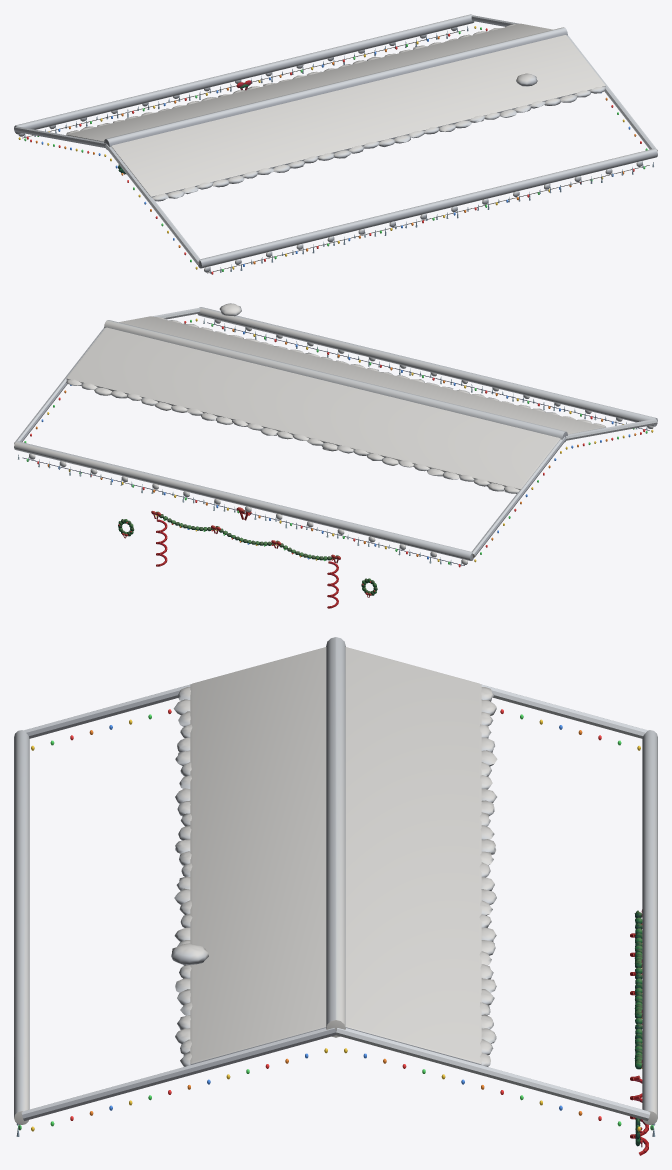
The model's file is XmasHall.fbx.
3 views of the same model, one above another, from view 1: azimuth 30°, elevation 25°; view 2: azimuth 150°, elevation 25°; view 3: azimuth 270°, elevation 25° (orthographic). The views are drawn at different scales.
Parts seen in each view (by area): view 1: SM_Xmas_Hall_Snow, SM_Xmas_Hall_Decor, SM_Xmas_Hall_Lights; view 2: SM_Xmas_Hall_Snow, SM_Xmas_Hall_Decor, SM_Xmas_Hall_Lights; view 3: SM_Xmas_Hall_Snow, SM_Xmas_Hall_Decor, SM_Xmas_Hall_Lights.
Boxes of the visible parts, x1,y1,x2,y2 form: SM_Xmas_Hall_Snow: (14,14,657,273); SM_Xmas_Hall_Decor: (22,30,649,273); SM_Xmas_Hall_Lights: (18,26,647,274); SM_Xmas_Hall_Snow: (14,303,657,566); SM_Xmas_Hall_Decor: (22,322,649,608); SM_Xmas_Hall_Lights: (24,318,653,567); SM_Xmas_Hall_Snow: (14,637,657,1136); SM_Xmas_Hall_Decor: (19,909,652,1155); SM_Xmas_Hall_Lights: (18,709,653,1131).
Size of the model in its own units: 87.1 by 27.19 by 61.54.
